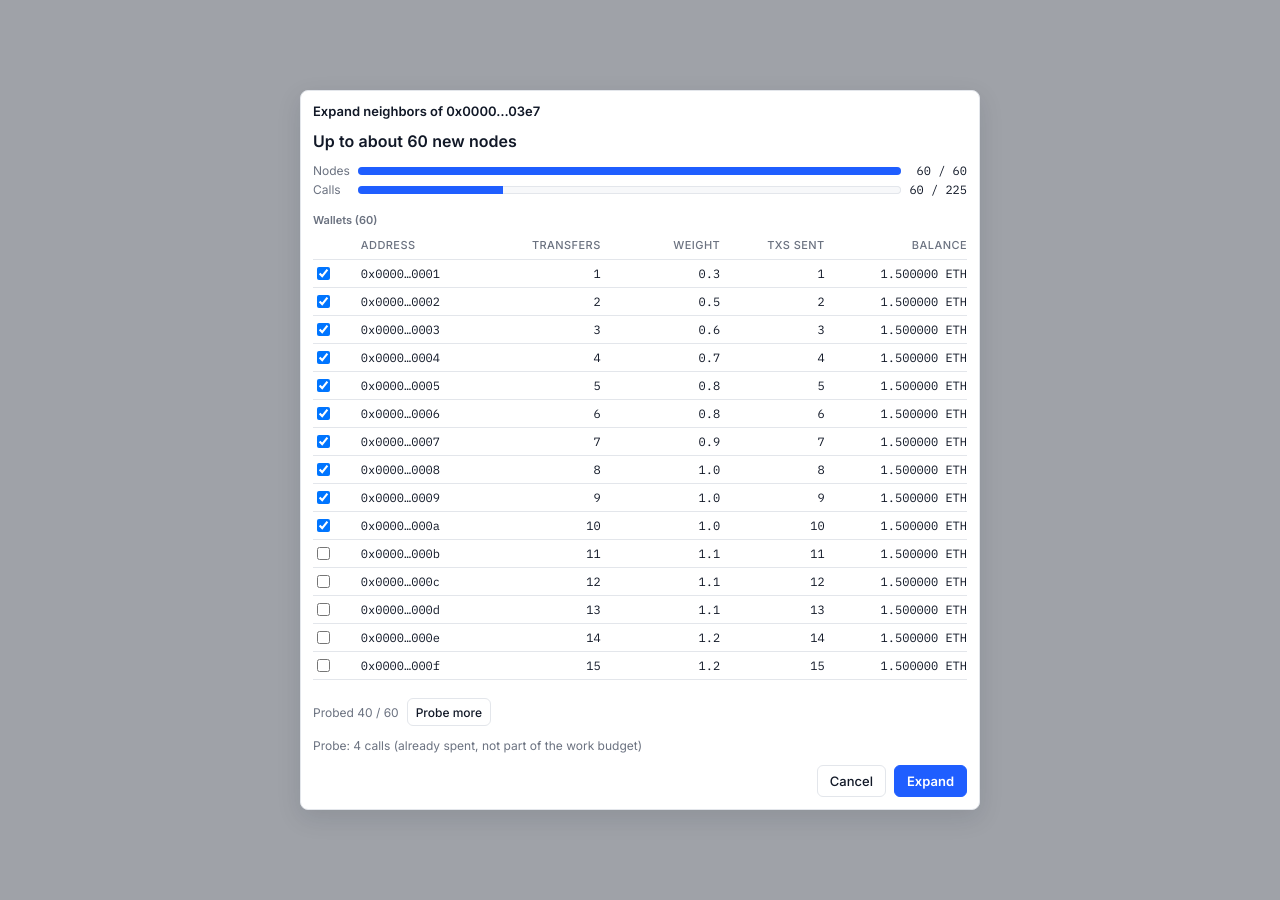
Scenario: candidates come from counterparties (centers excluded); chunk 1 is interactive, then exactly one extra chunk once the budget binds
This screenshot has width=1280, height=900.
Check: the text "Probed 40 / 60" is shown, box [313,704,399,720]
# Further chunks only on demand.
Click the button "Probe more" at (449, 712), box [407,698,491,726]
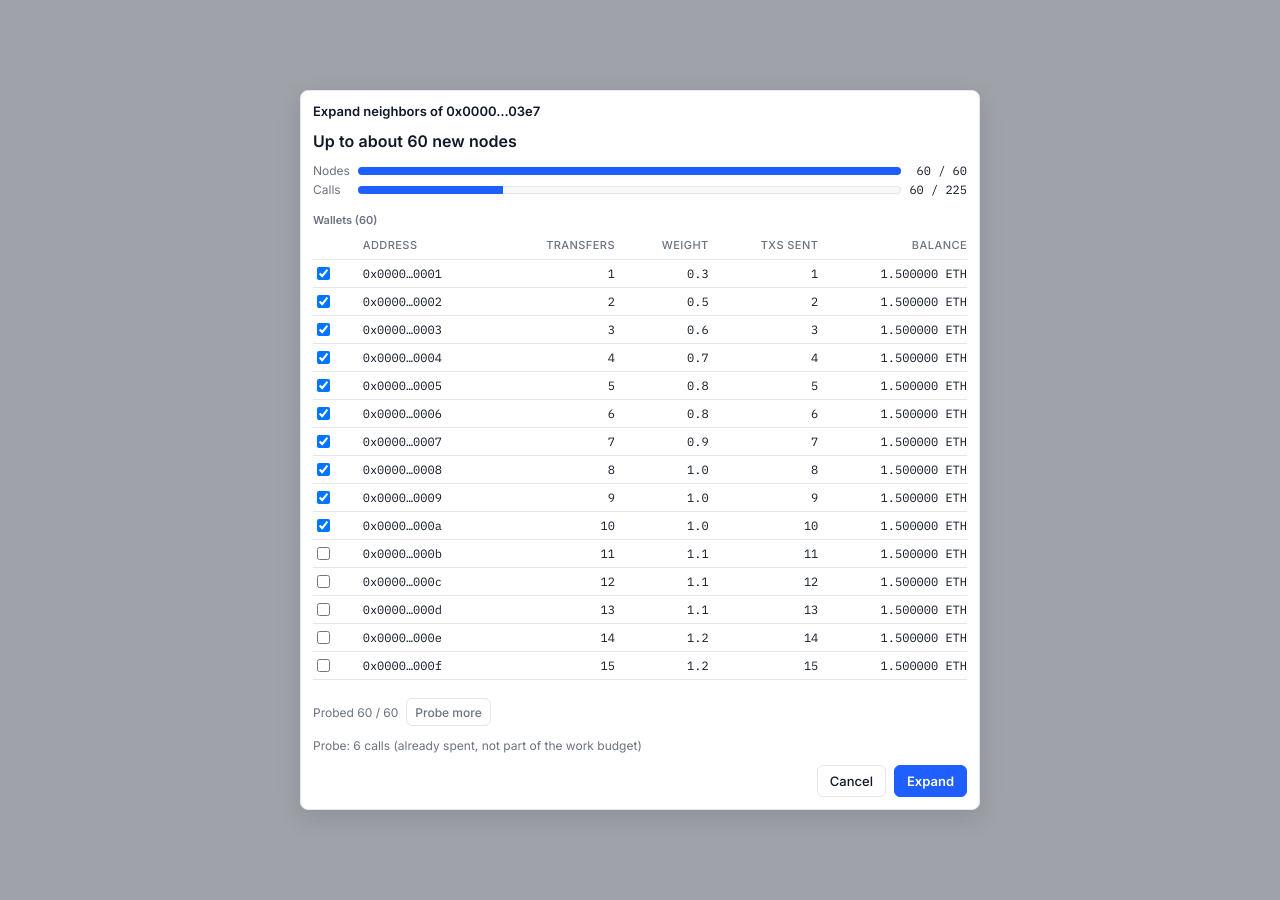
Check: the text "Probed 60 / 60" is shown, box [313,704,398,720]
